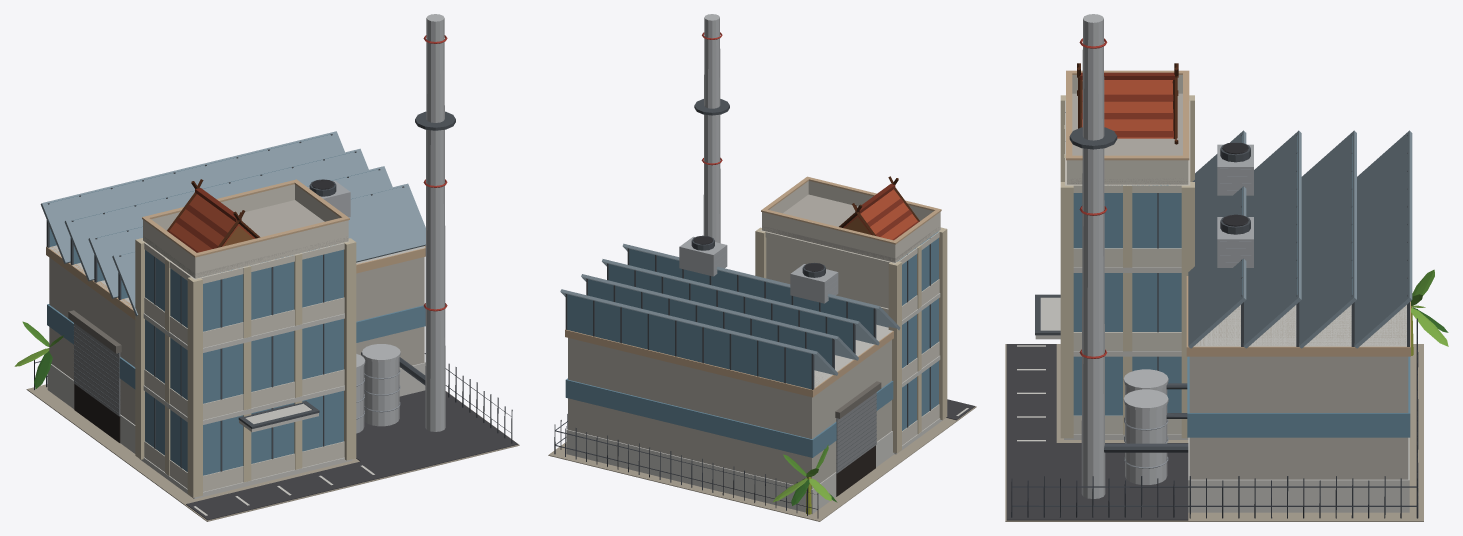
The model's file is factory_3.glb.
The picture shows the model from 3 angles, left to right: view 1: azimuth 30°, elevation 25°; view 2: azimuth 150°, elevation 25°; view 3: azimuth 270°, elevation 25°; orthographic projection. The views are drawn at different scales.
Visible parts, largest first — view 1: body, windows; view 2: body, windows; view 3: body.
Boxes of the visible parts, box(x1,y1,x2,y2) form: body: box(14, 14, 519, 521); windows: box(74, 384, 120, 442); body: box(548, 14, 976, 521); windows: box(836, 445, 875, 496); body: box(1005, 14, 1448, 521).
Size of the model in its own units: 16.56 by 20 by 16.84.
